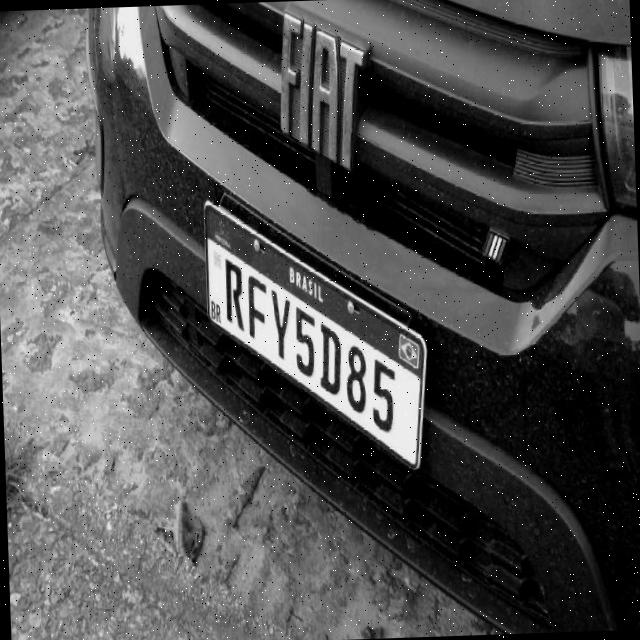placa_mercosul: (205, 204, 425, 466)
